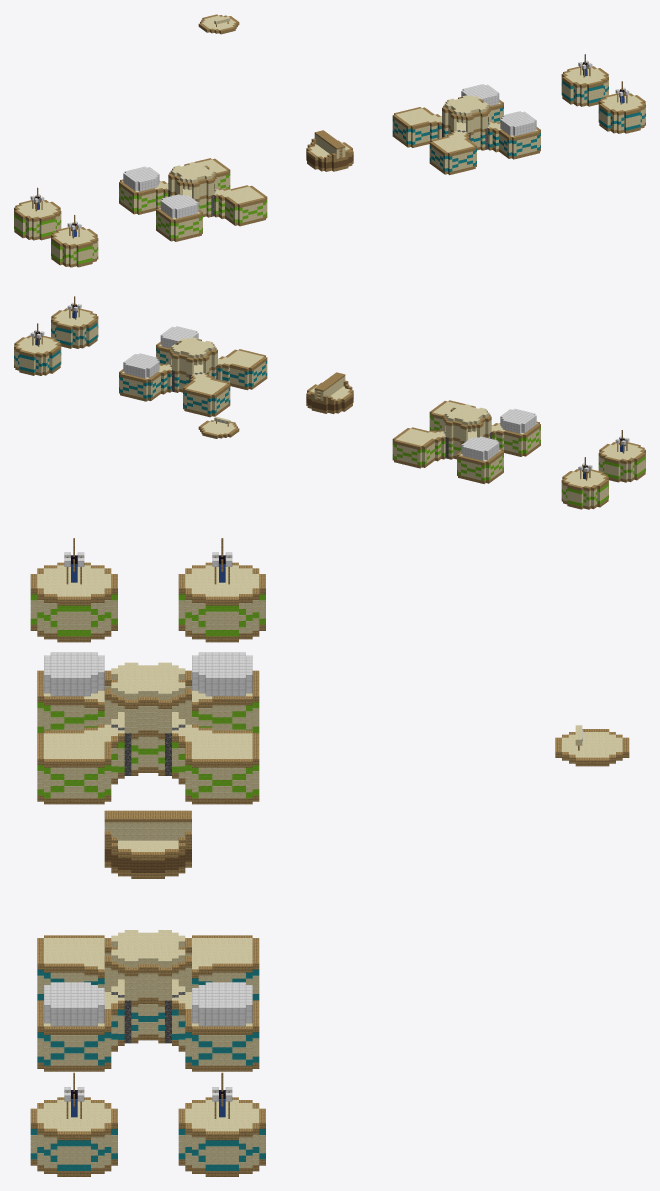
File: minecraft.obj
The picture shows the model from 3 angles, top to bottom: view 1: azimuth 30°, elevation 25°; view 2: azimuth 150°, elevation 25°; view 3: azimuth 270°, elevation 25°; orthographic projection. The views are drawn at different scales.
Bounding box in the file's own units: 201 × 26 × 89.
